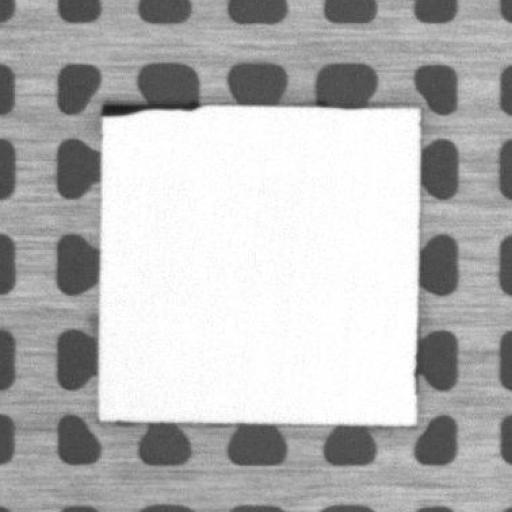DIE_BROKEN: (98, 94, 200, 119)
